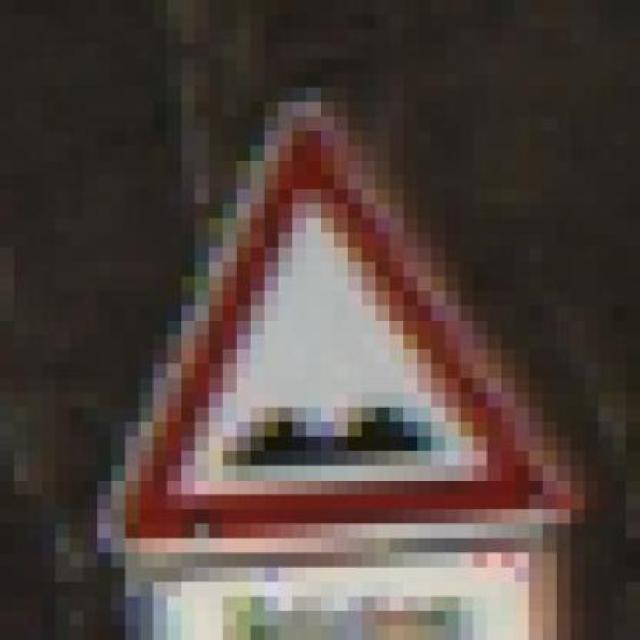Uneven Road: (110, 87, 584, 567)
